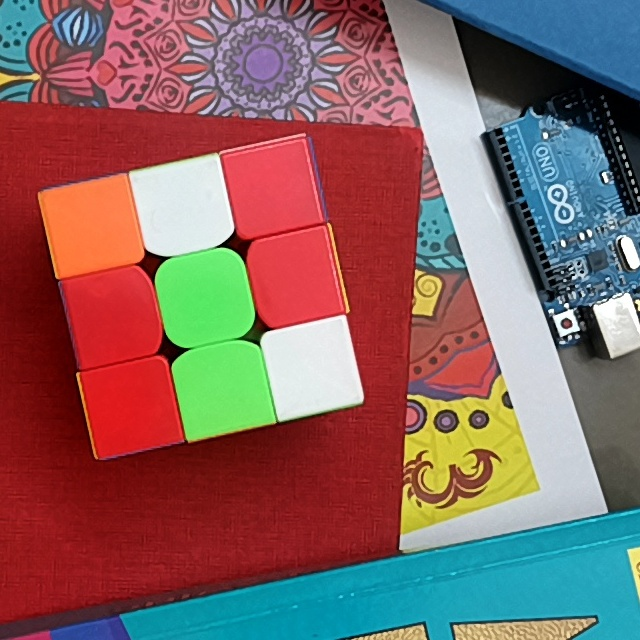tile: (77, 280, 148, 354), (93, 372, 167, 441), (56, 190, 127, 261), (169, 263, 240, 334), (147, 171, 217, 242), (186, 355, 260, 422), (237, 154, 308, 222), (278, 331, 346, 401), (261, 243, 328, 313)
